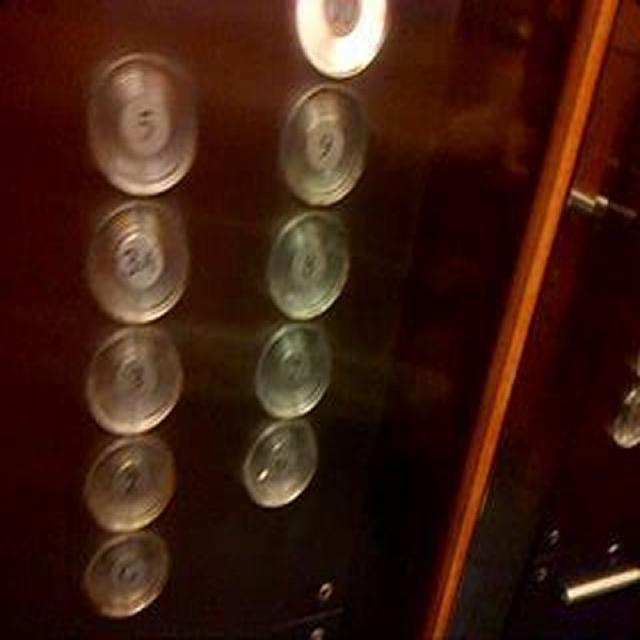2: (79, 433, 175, 531)
3: (84, 324, 182, 433)
5: (84, 51, 199, 197)
7: (252, 320, 331, 419)
8: (266, 208, 349, 319)
9: (281, 81, 366, 206)
G: (82, 532, 169, 617)
blur: (85, 198, 189, 322), (239, 419, 317, 505)
